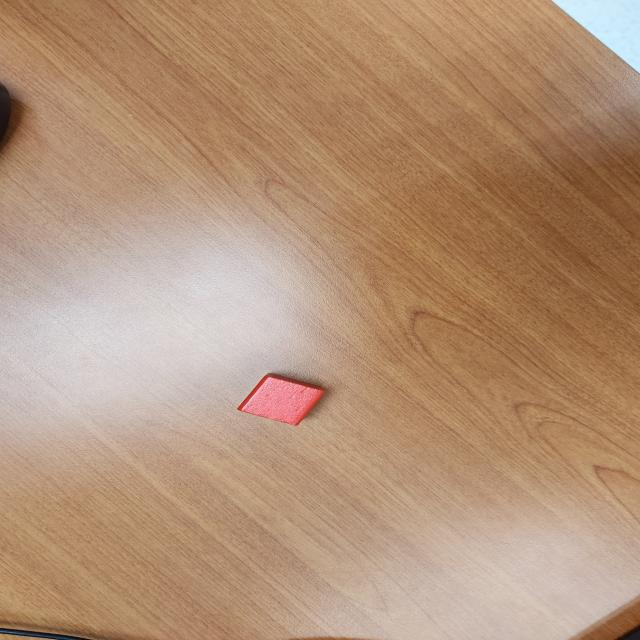red: (238, 373, 326, 426)
